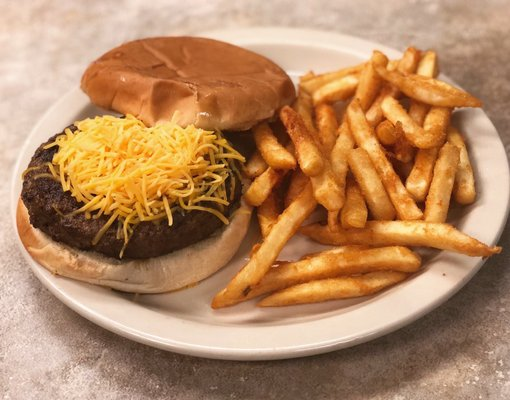soup: (16, 114, 252, 294)
